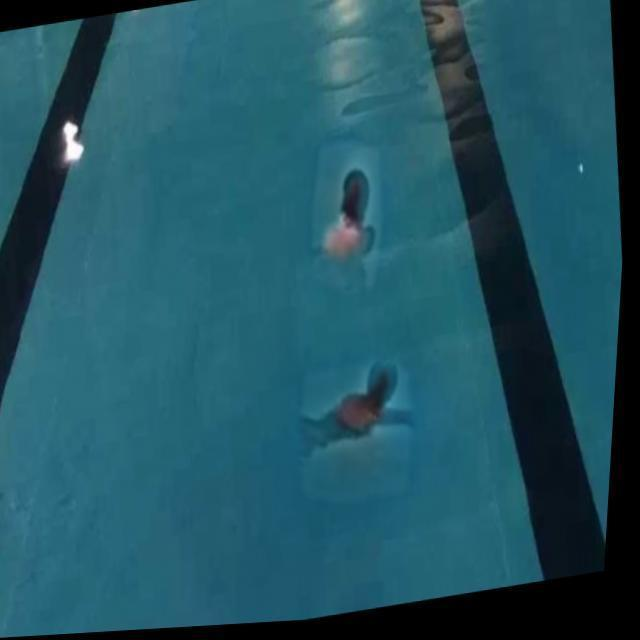swimming: (283, 347, 417, 486), (309, 156, 403, 269)
